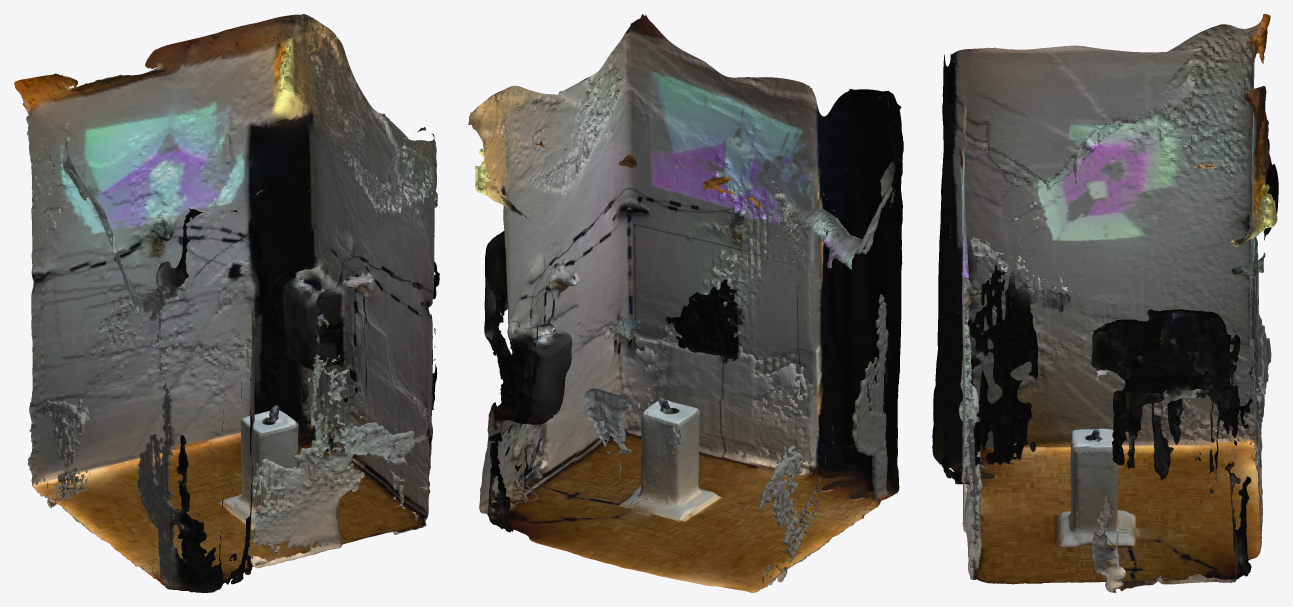
Rendered from room.glb.
3 views of the same model, side by side, from view 1: azimuth 30°, elevation 25°; view 2: azimuth 150°, elevation 25°; view 3: azimuth 270°, elevation 25° (orthographic). The views are drawn at different scales.
Parts seen in each view (by area): view 1: room.obj; view 2: room.obj; view 3: room.obj.
Part boxes in pixels (left/top/right/bottom): room.obj: left=14, top=14, right=439, bottom=592; room.obj: left=468, top=14, right=903, bottom=592; room.obj: left=932, top=14, right=1278, bottom=592.
Bounding box in the file's own units: 3.46 × 4.57 × 3.32.
1 material, 1 textured.
